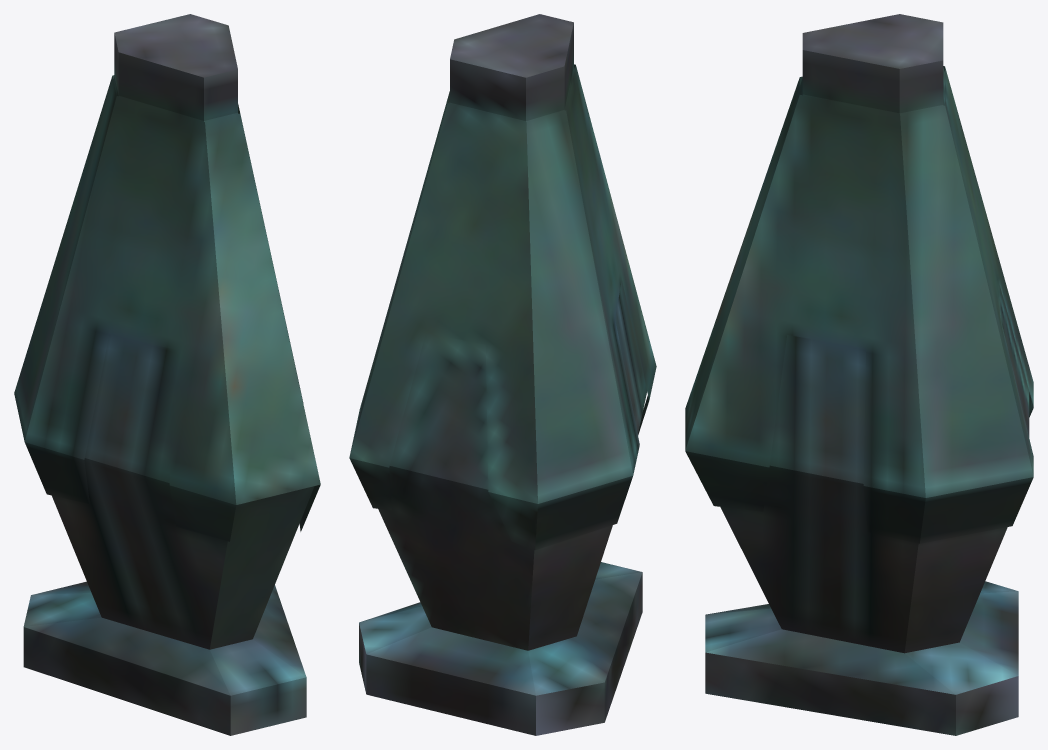
File: yw_gonghuilingdi_xiaowujian07.FBX
3 renders of one model, left to right at view 1: azimuth 30°, elevation 25°; view 2: azimuth 150°, elevation 25°; view 3: azimuth 270°, elevation 25°, orthographic. The views are drawn at different scales.
Visible parts, largest first — view 1: yw_gonghuilingdi_xiaowujian07; view 2: yw_gonghuilingdi_xiaowujian07; view 3: yw_gonghuilingdi_xiaowujian07.
Boxes of the visible parts, x1=… form: yw_gonghuilingdi_xiaowujian07: x1=14, y1=14, x2=320, y2=735; yw_gonghuilingdi_xiaowujian07: x1=349, y1=14, x2=656, y2=735; yw_gonghuilingdi_xiaowujian07: x1=685, y1=14, x2=1033, y2=735.
Bounding box in the file's own units: 31.25 × 67.68 × 33.77.
